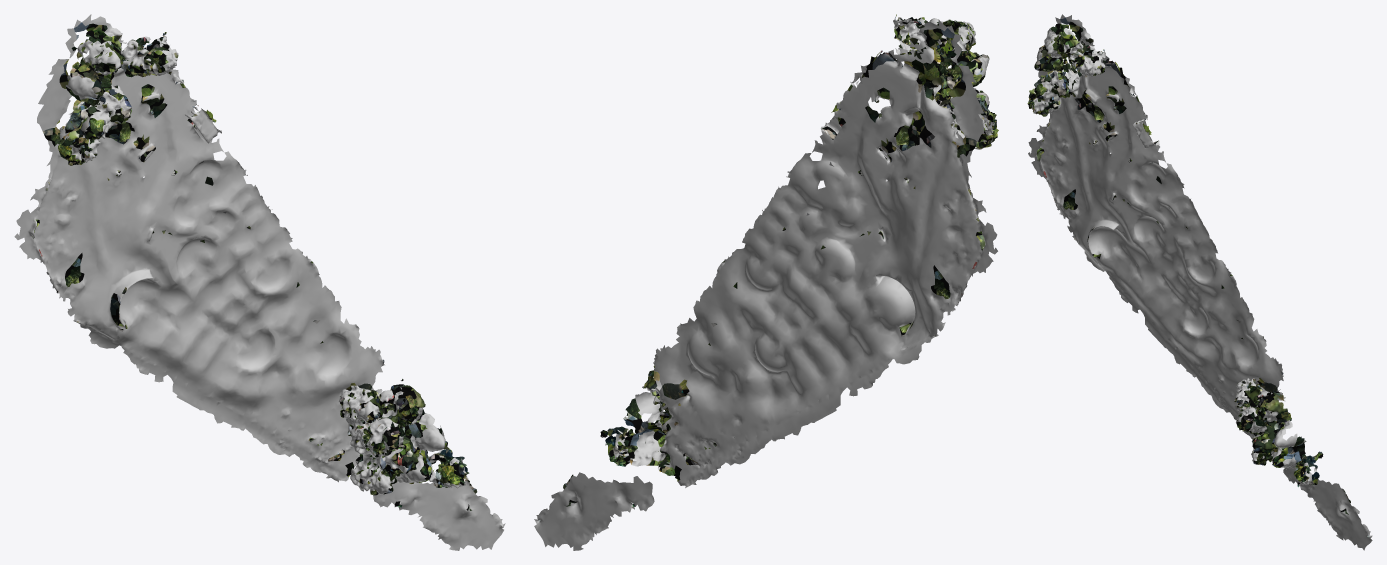
Rendered from odm_textured_model_geo.obj.
3 renders of one model, left to right at view 1: azimuth 30°, elevation 25°; view 2: azimuth 150°, elevation 25°; view 3: azimuth 330°, elevation 25°, orthographic. The views are drawn at different scales.
Size of the model in its own units: 89.06 by 112 by 15.26.
